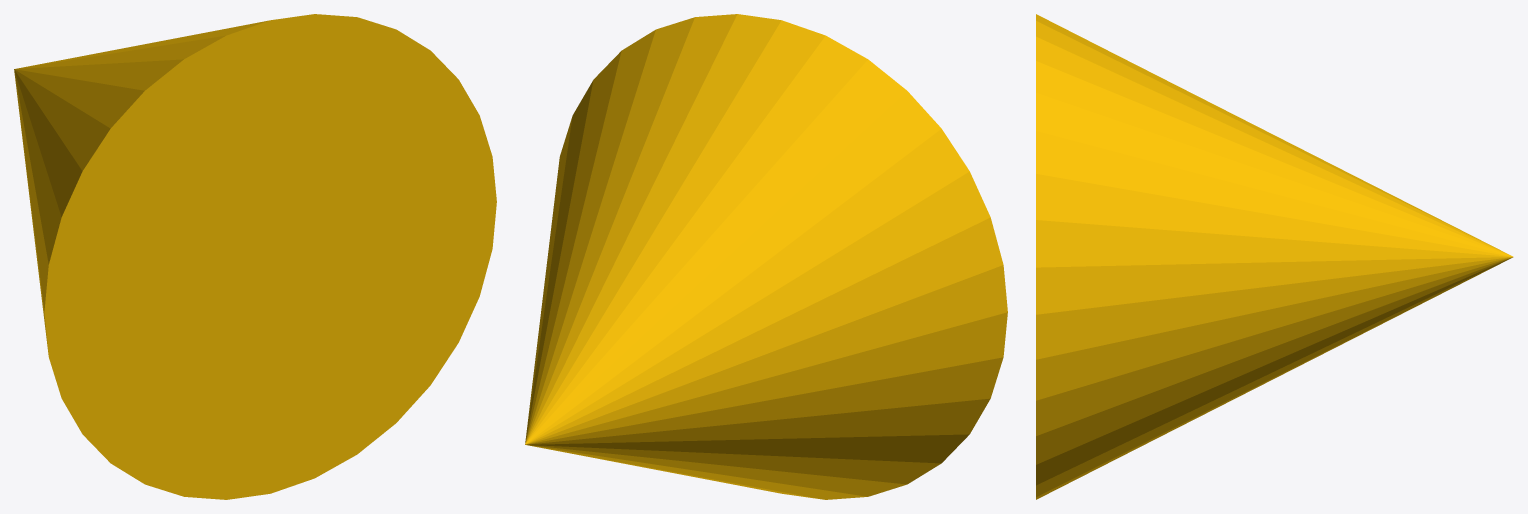
The model's file is selector.obj.
3 views of the same model, side by side, from view 1: azimuth 30°, elevation 25°; view 2: azimuth 150°, elevation 25°; view 3: azimuth 270°, elevation 25° (orthographic). The views are drawn at different scales.
Visible parts, largest first — view 1: Cone; view 2: Cone; view 3: Cone.
Part boxes in pixels (x1,y1,x2,y2): Cone: (14, 14, 496, 499); Cone: (525, 14, 1007, 499); Cone: (1036, 14, 1513, 499).
Bounding box in the file's own units: 3.9 × 3.9 × 3.83.
Materials: 1 (1 with a texture image).
